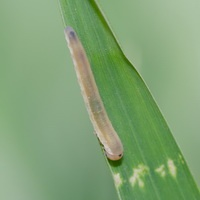insect: (64, 26, 122, 159)
